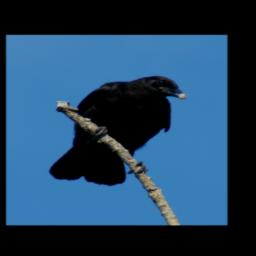Crow: (48, 75, 188, 187)
